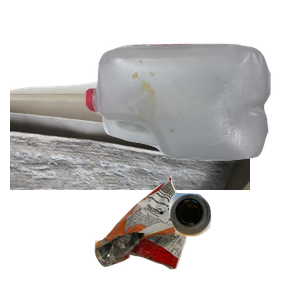glass: (166, 190, 300, 300)
paper: (10, 77, 250, 257)
plastic: (83, 41, 300, 194)
trash: (92, 174, 272, 300)
